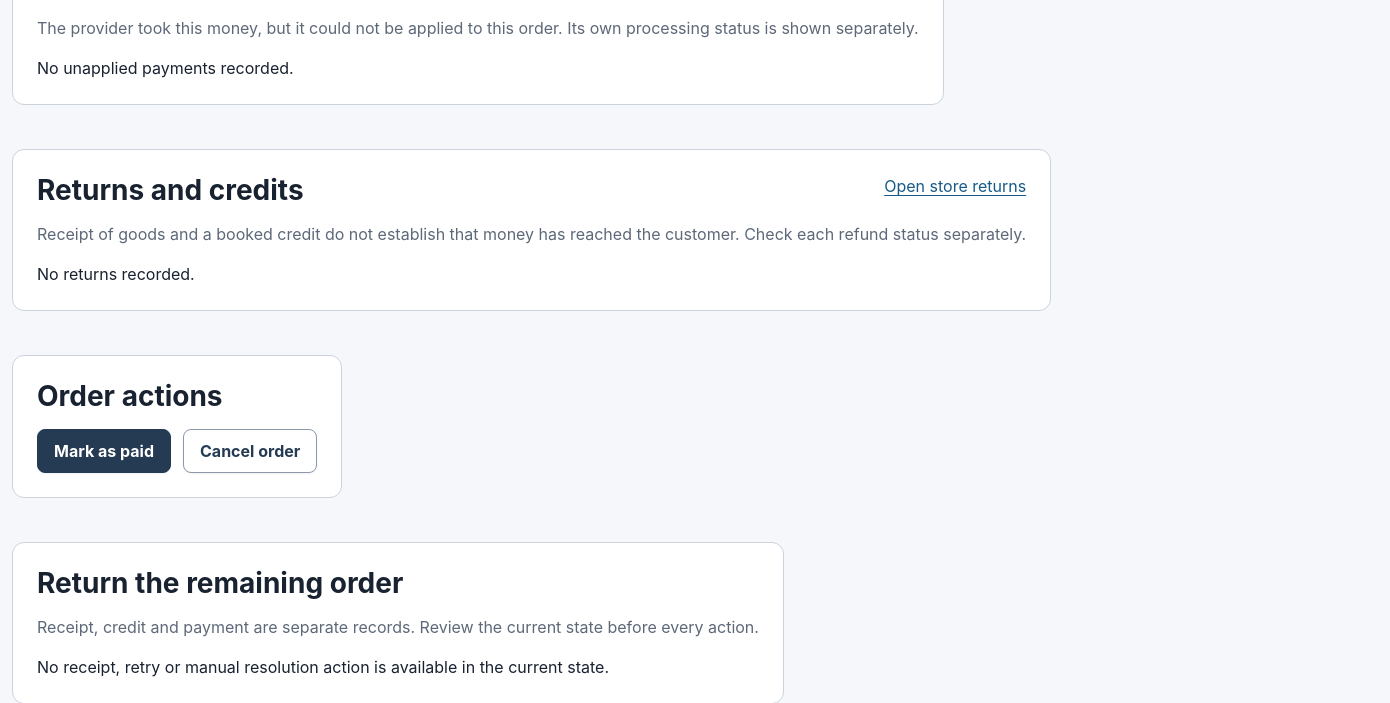
Test: routed order details › serializes existing management actions and waits for a fresh read after an uncertain write
(page scrolled)
Click the button "Mark as paid": (104, 450) [37, 428, 171, 472]
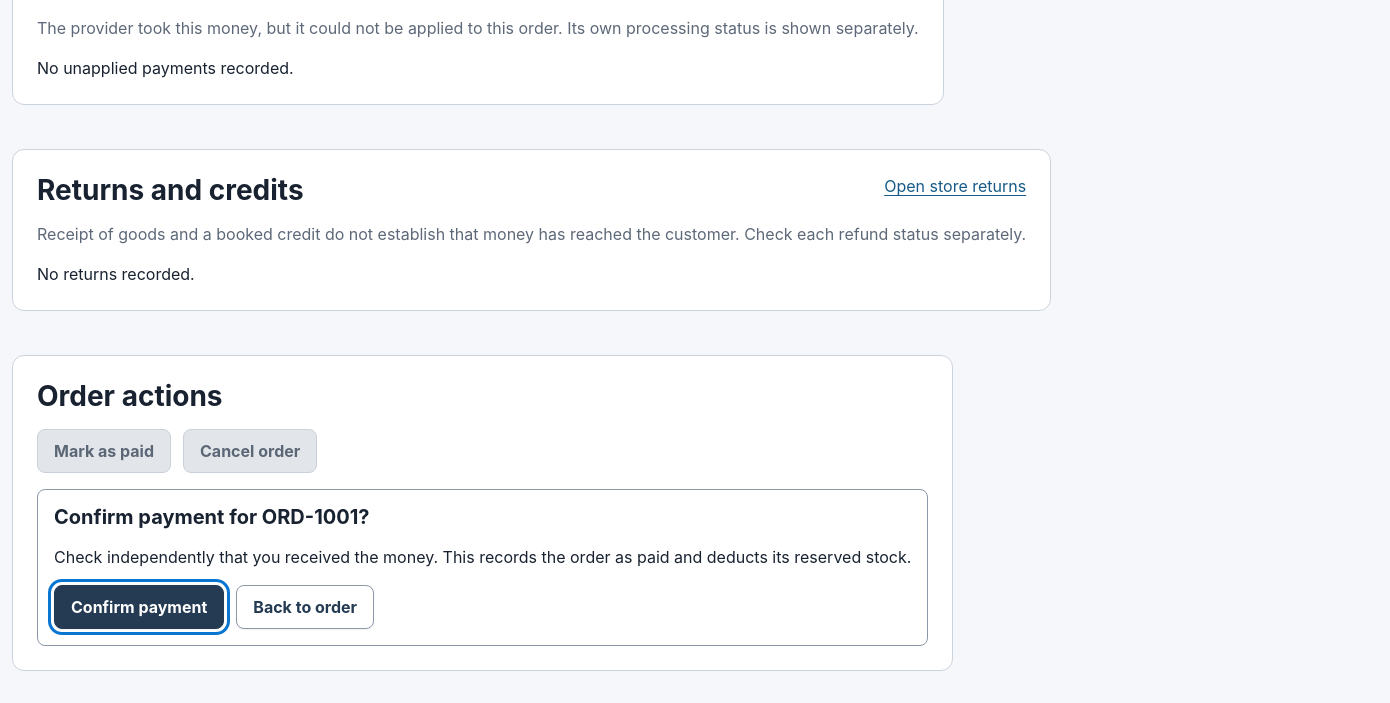
Double-click the button "Confirm payment": (139, 606) [54, 584, 224, 628]
(page scrolled)
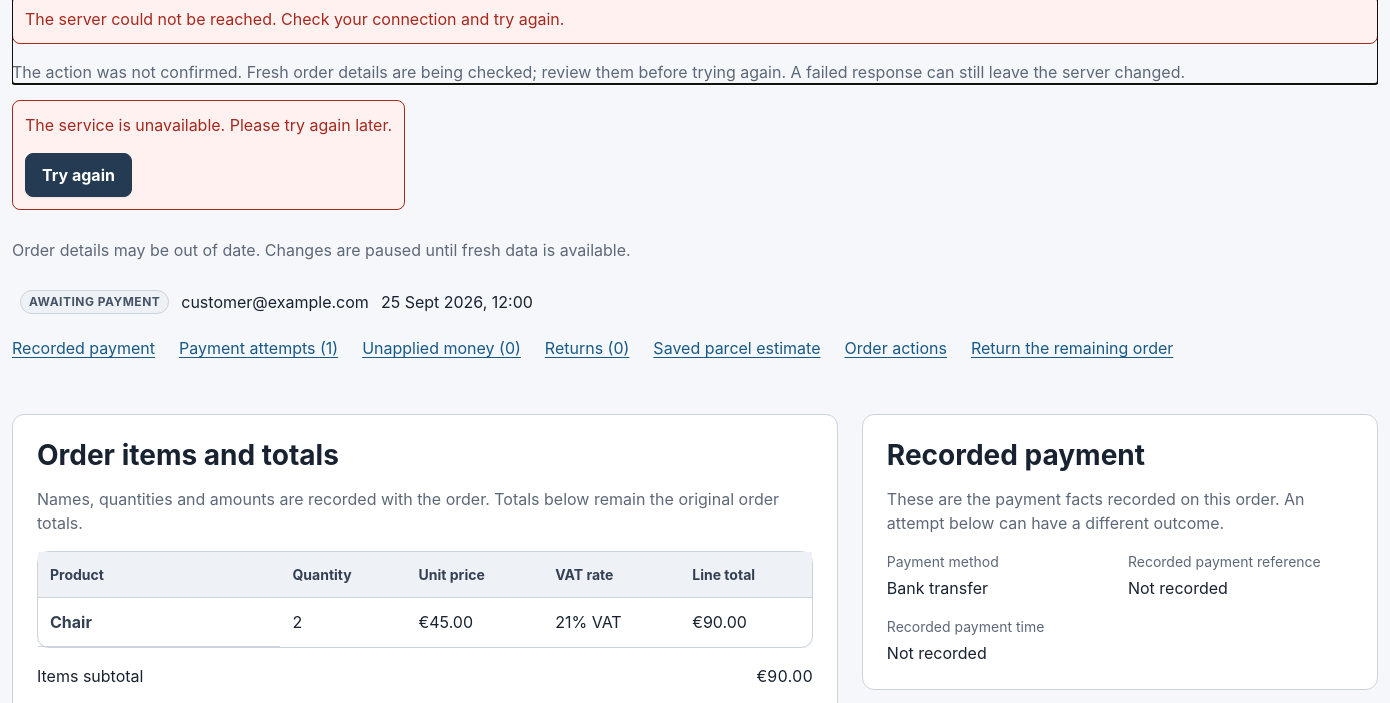
Expected: the button "Try again" is shown
Click the button "Try again": (78, 175) [25, 153, 132, 197]
(page scrolled)
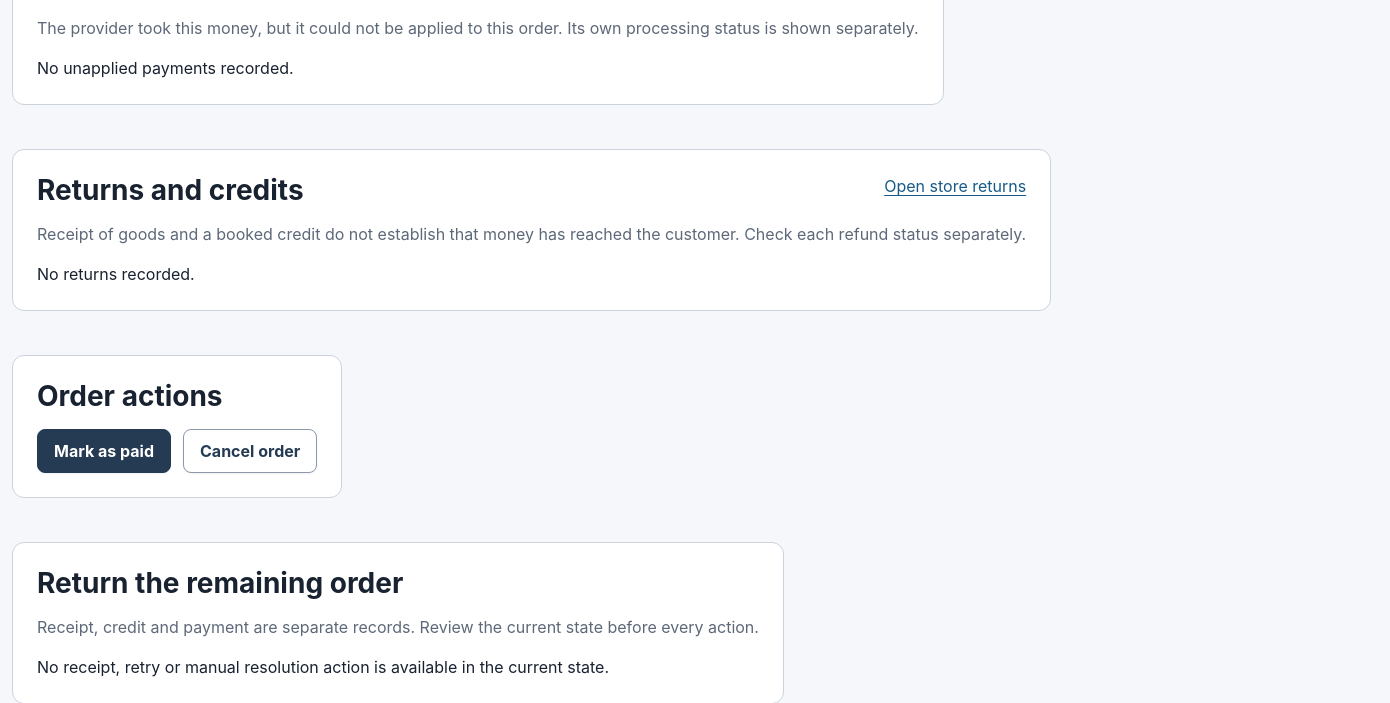
Expected: the button "Mark as paid" is enabled, [37, 428, 171, 472]
